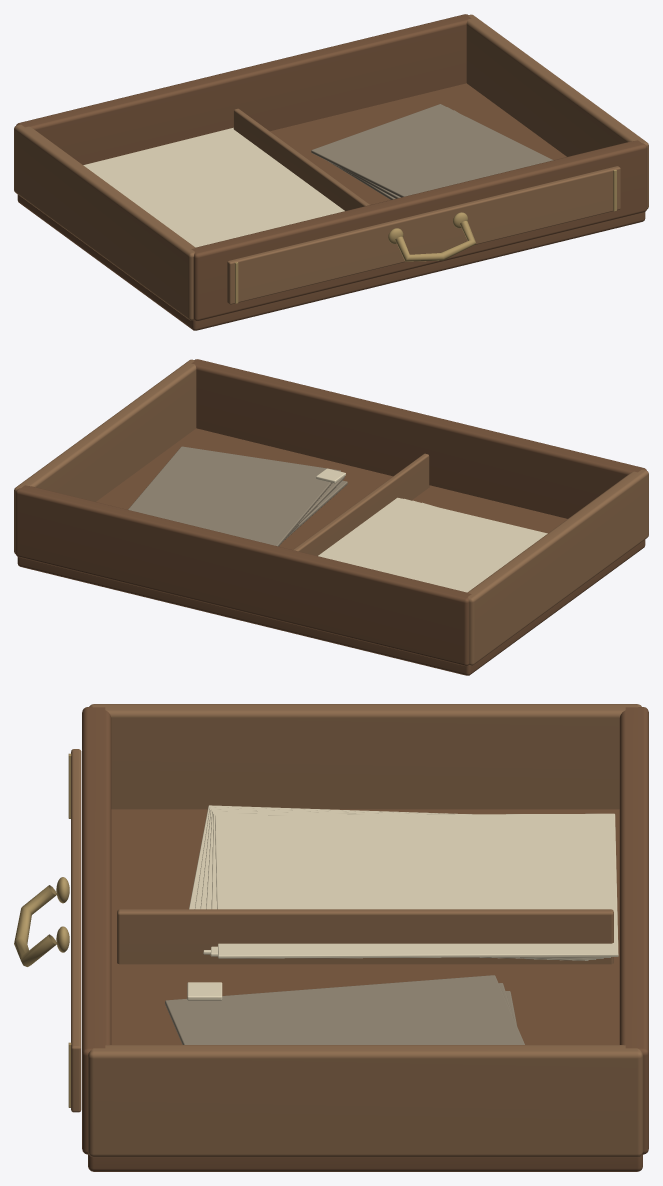
File: chapter-vii-c50d7bfa9c0d.glb
3 renders of one model, top to bottom at view 1: azimuth 30°, elevation 25°; view 2: azimuth 150°, elevation 25°; view 3: azimuth 270°, elevation 25°, orthographic. The views are drawn at different scales.
Parts seen in each view (by area): view 1: Shallow archive bottom, Drawer side, Archive cotton letter, Blank photographic card, Front inlay; view 2: Shallow archive bottom, Drawer side, Blank photographic card, Archive cotton letter; view 3: Drawer side, Shallow archive bottom, Archive cotton letter, Blank photographic card, Front inlay.
Part boxes in pixels (x1,y1,x2,y2): Shallow archive bottom: (16, 14, 647, 330); Drawer side: (14, 14, 648, 320); Archive cotton letter: (83, 127, 344, 247); Blank photographic card: (311, 104, 553, 199); Front inlay: (235, 169, 616, 303); Shallow archive bottom: (15, 359, 646, 675); Drawer side: (14, 359, 648, 665); Blank photographic card: (128, 446, 347, 546); Archive cotton letter: (316, 468, 547, 592); Drawer side: (71, 704, 643, 1157); Shallow archive bottom: (82, 707, 648, 1171); Archive cotton letter: (187, 805, 618, 1000); Blank photographic card: (165, 975, 524, 1044); Front inlay: (14, 753, 71, 1107).
Bounding box in the file's own units: 2.85 × 0.4649 × 2.17.
